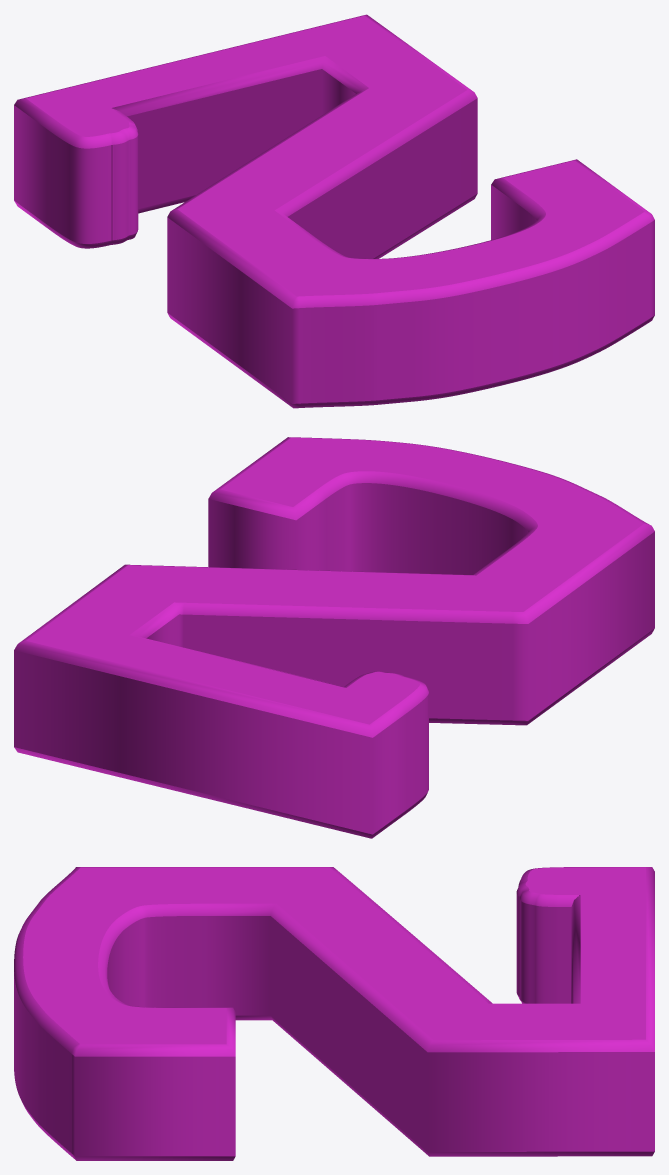
The model's file is Number_2_CoolFont.fbx.
The picture shows the model from 3 angles, top to bottom: view 1: azimuth 30°, elevation 25°; view 2: azimuth 150°, elevation 25°; view 3: azimuth 270°, elevation 25°; orthographic projection. The views are drawn at different scales.
Parts seen in each view (by area): view 1: Number_2; view 2: Number_2; view 3: Number_2.
Part boxes in pixels (x1=…): Number_2: x1=14, y1=14, x2=654, y2=408; Number_2: x1=14, y1=437, x2=654, y2=838; Number_2: x1=14, y1=867, x2=654, y2=1160.
Bounding box in the file's own units: 0.4777 × 0.14 × 0.7.
